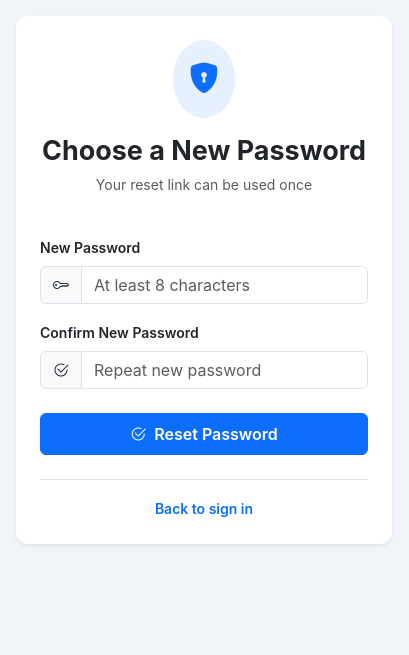
Test case: Password reset pages › reset password surfaces an expired or invalid token message
Type "NewPassword123!" into the password field labelled "New Password" at (224, 285), box top-left (81, 266), bottom-right (368, 304)
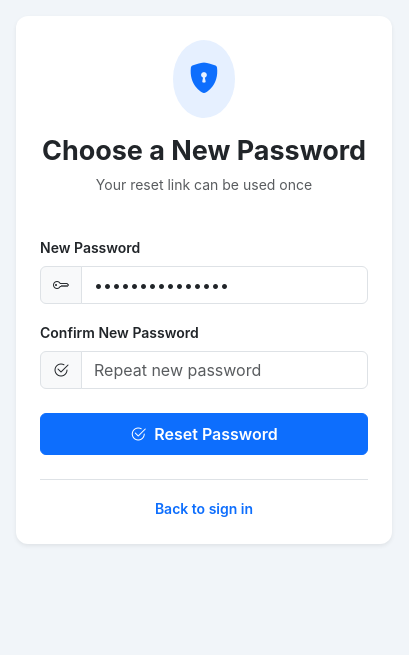
Type "NewPassword123!" into the password field labelled "Confirm New Password" at (224, 370), box top-left (81, 351), bottom-right (368, 389)
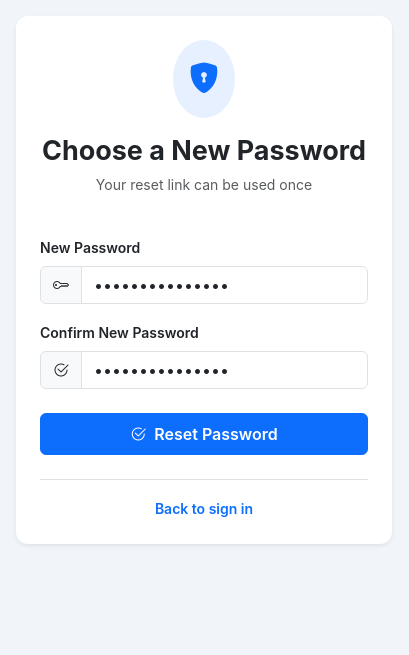
Click the button "Reset Password" at (204, 434), box top-left (40, 413), bottom-right (368, 455)
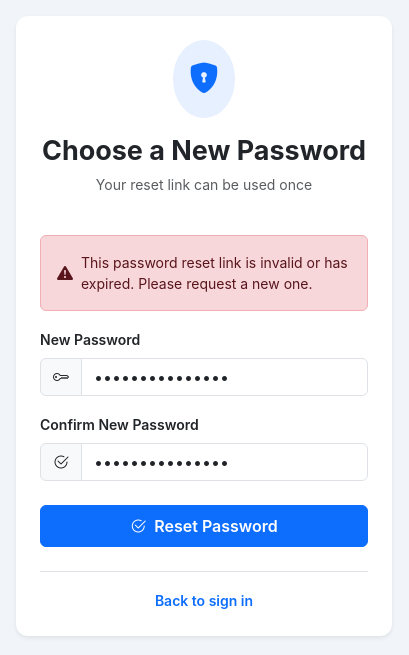
Now the text "invalid or has expired" is shown, box top-left (81, 254), bottom-right (348, 292)
